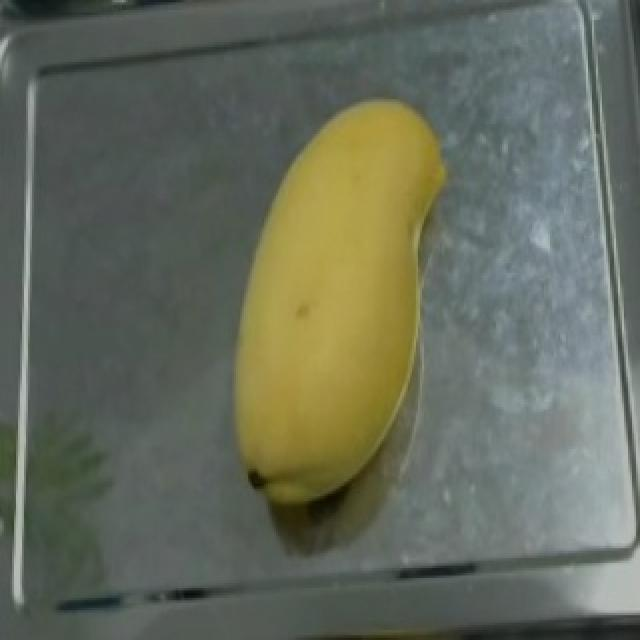fruit: (220, 77, 466, 449)
